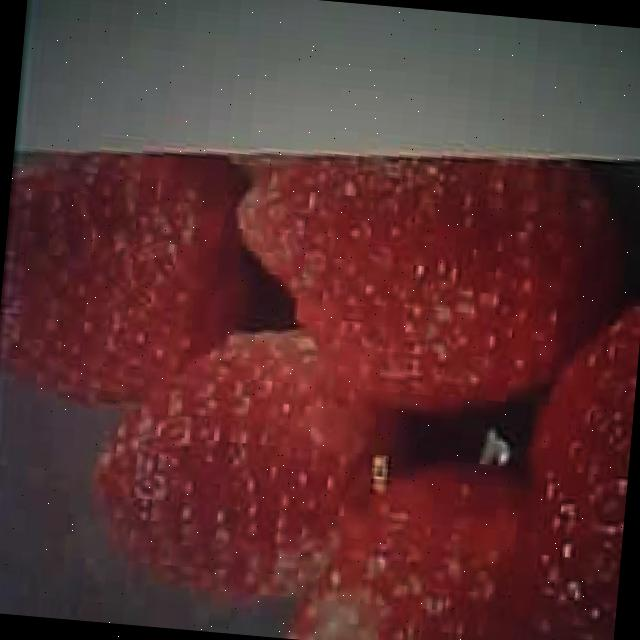strawberry: (222, 134, 626, 420), (89, 314, 416, 608), (0, 139, 250, 411)
